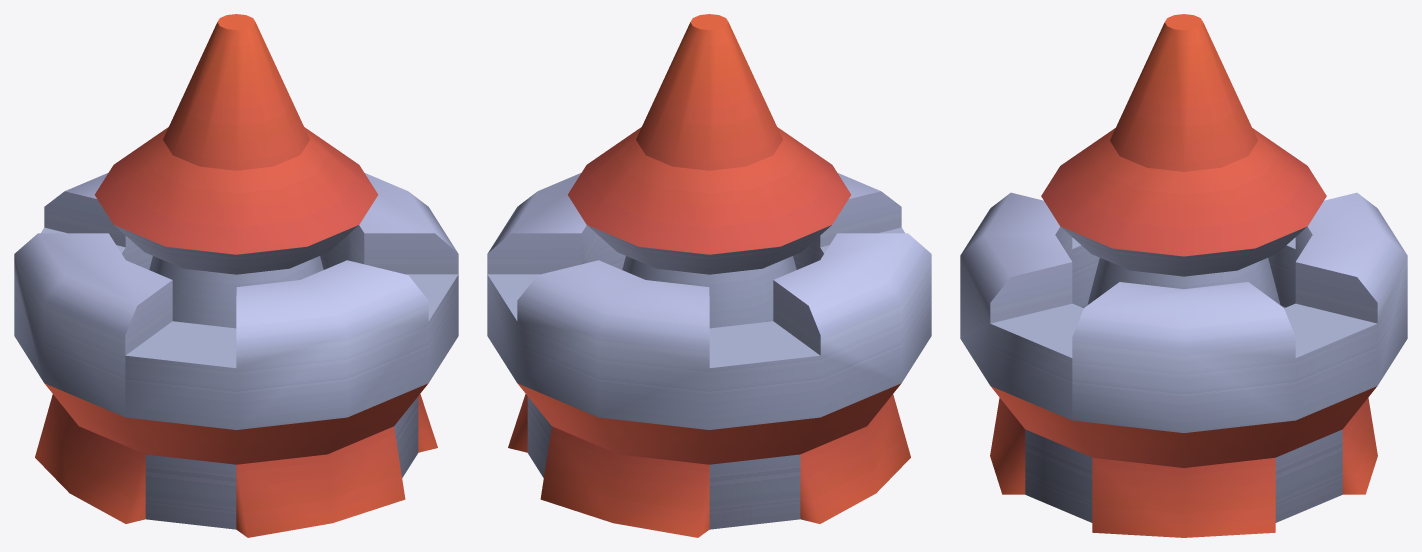
The model's file is tower-round-roof-c.glb.
3 views of the same model, side by side, from view 1: azimuth 30°, elevation 25°; view 2: azimuth 150°, elevation 25°; view 3: azimuth 270°, elevation 25° (orthographic).
Parts seen in each view (by area): view 1: tower-round-roof-c; view 2: tower-round-roof-c; view 3: tower-round-roof-c.
Part boxes in pixels (<box>): tower-round-roof-c: <box>14,14,458,537</box>; tower-round-roof-c: <box>487,14,931,537</box>; tower-round-roof-c: <box>960,14,1407,537</box>.
Size of the model in its own units: 0.976 by 1.04 by 0.976.
1 material, 1 textured.
